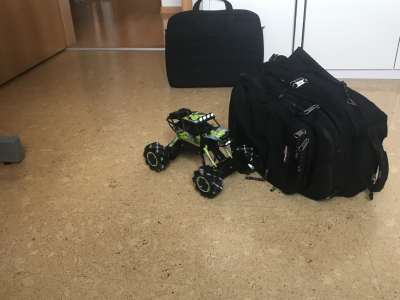remote control car: (141, 106, 256, 200)
